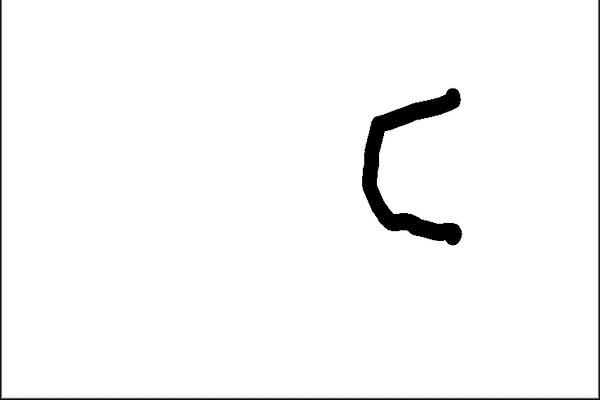C: (357, 83, 470, 247)
